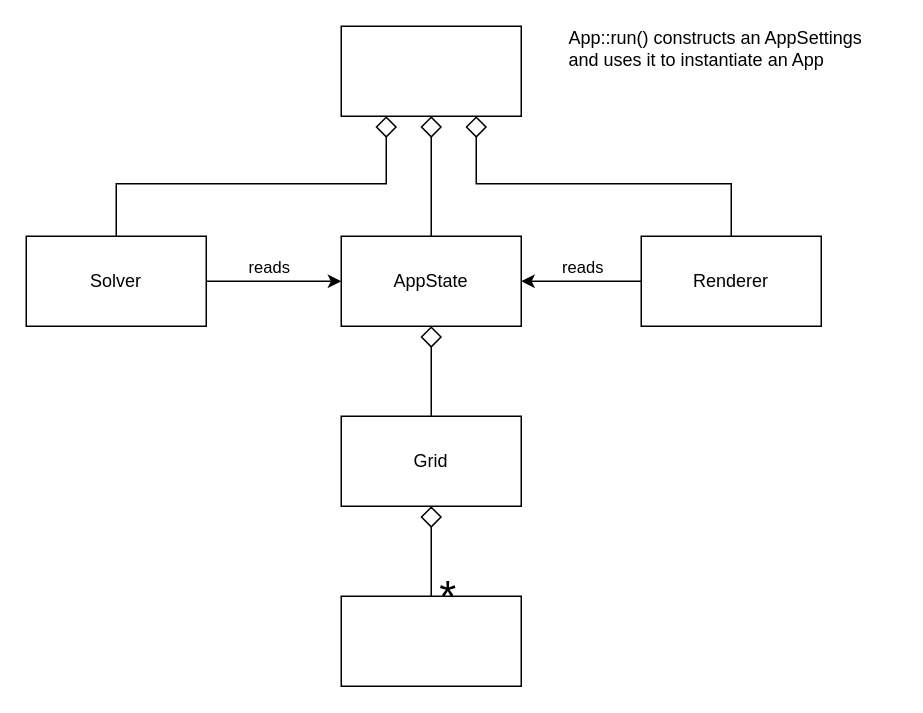
This 923x713 diagram has some shape labels left out. The shapes that lost their labels are listed below. From the top down, each one's box as (x1, y1, x2, y2) in pixels, then its label:
(340, 25, 521, 116): App
(340, 595, 521, 686): Tile
